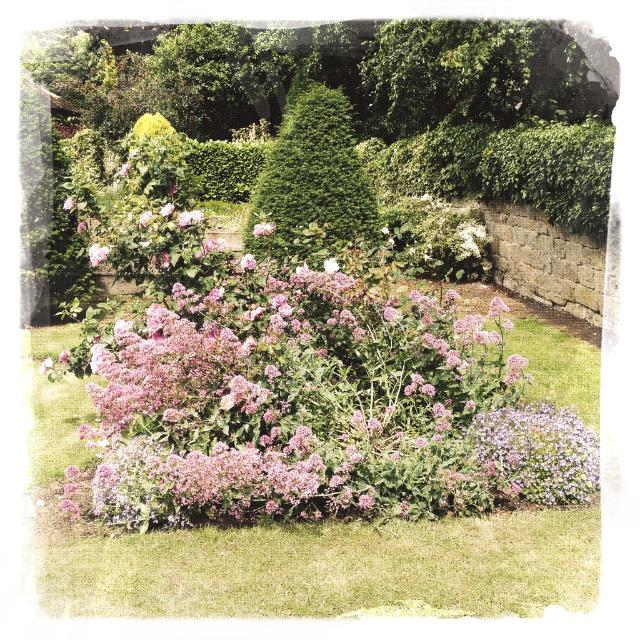Flower: (35, 206, 601, 530)
